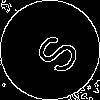S: (25, 25, 82, 78)
